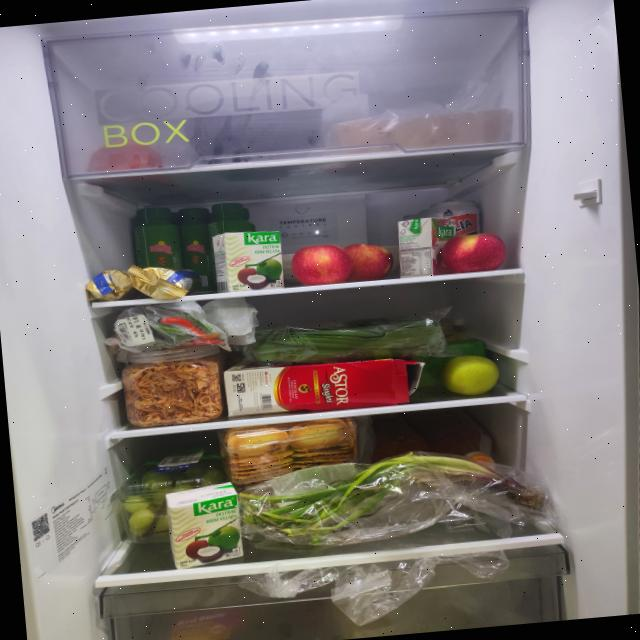apple: (289, 238, 395, 288), (438, 230, 508, 275), (438, 351, 502, 398)
chili: (150, 298, 227, 349)
coconut_milk: (164, 480, 245, 570), (210, 227, 286, 294), (394, 214, 460, 280)
grape: (120, 462, 230, 538)
leafy_greens: (249, 310, 447, 372)
spring_onion: (236, 439, 546, 554)
